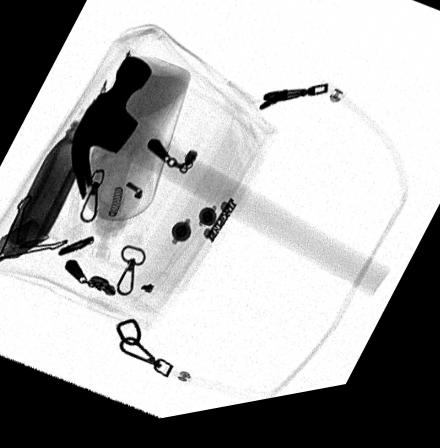Hammer: (70, 59, 391, 310)
